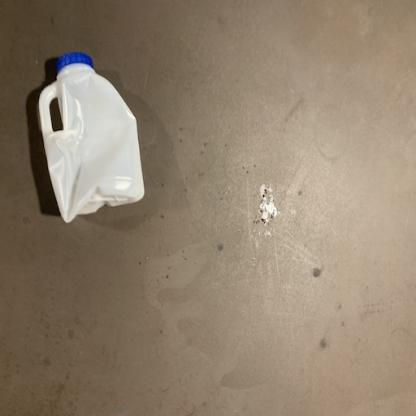trash: (38, 52, 146, 226)
